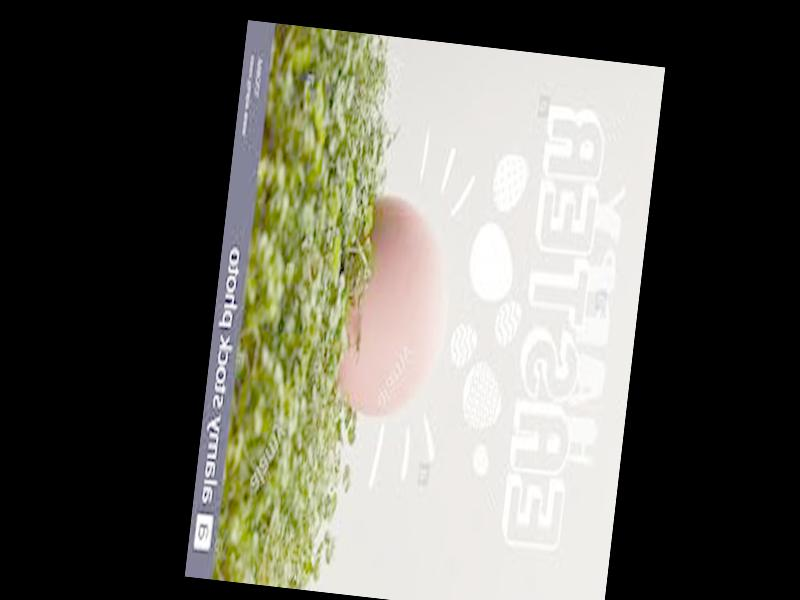Eggs: (333, 188, 458, 419)
